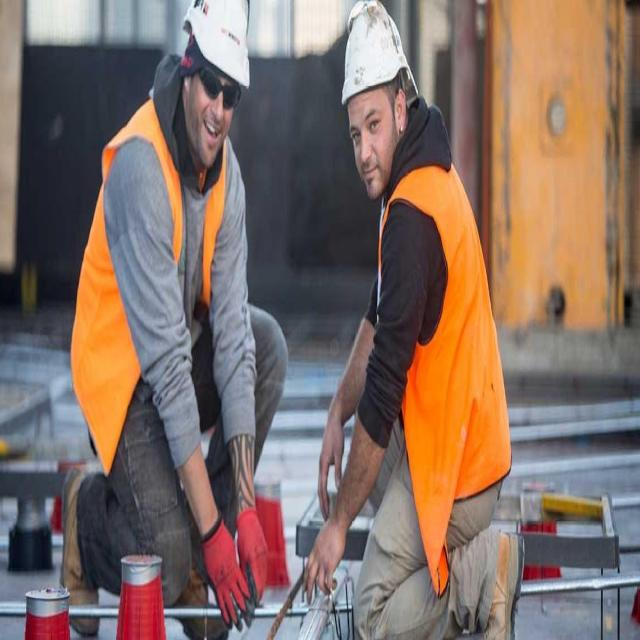Reflective-Jacket: (68, 99, 238, 479), (378, 138, 514, 586)
Safety-Helmet: (337, 0, 405, 109), (184, 0, 253, 92)
